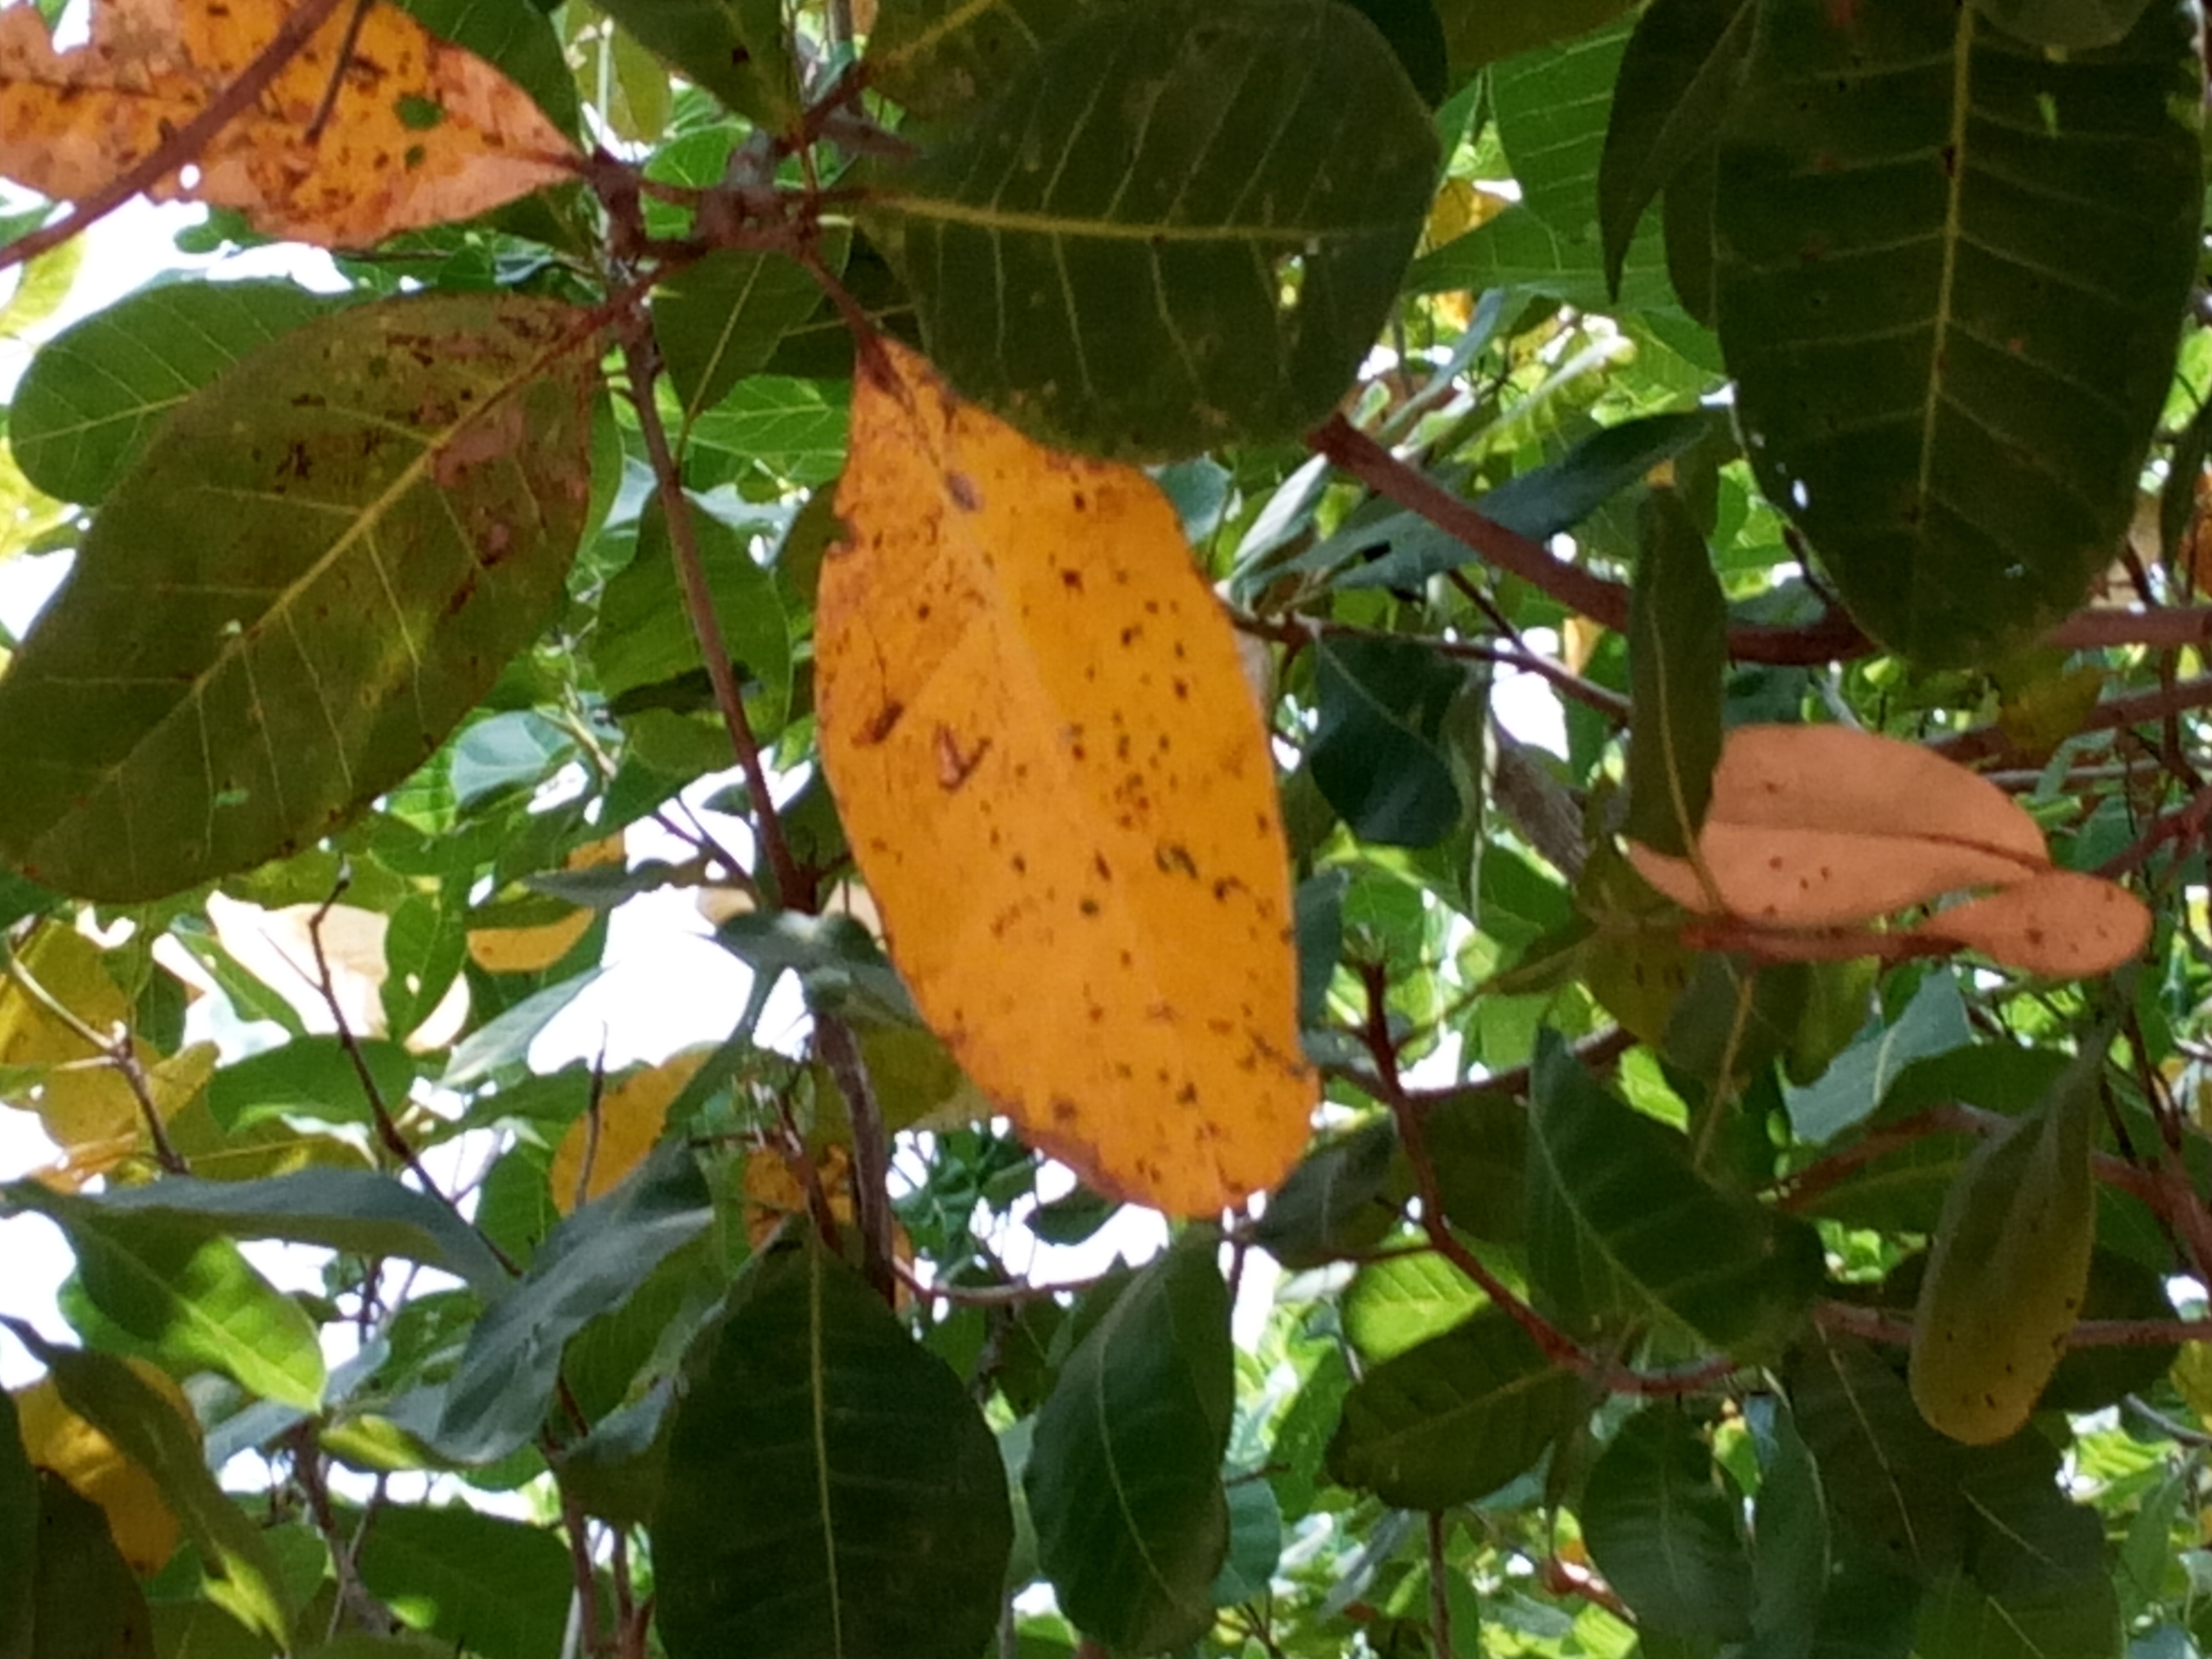Anthracnose: (813, 322, 1329, 1213), (0, 289, 618, 922), (1728, 26, 2203, 664), (846, 0, 1439, 469), (0, 0, 577, 237), (1895, 1098, 2106, 1443)
